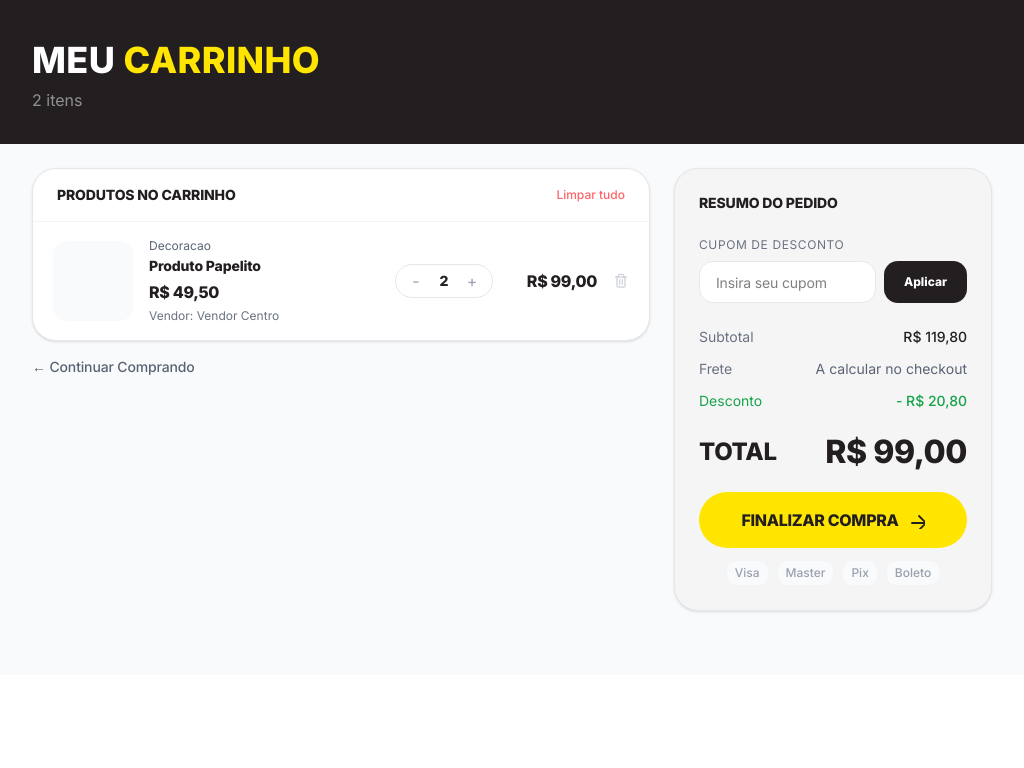
Test: CartPageContent stock validation › keeps the current quantity and warns when fresh stock is lower
The width and height of the screenshot is (1024, 768).
Step 1. Click the button named "Aumentar quantidade" → (472, 281), box x1=456 y1=265 x2=488 y2=297
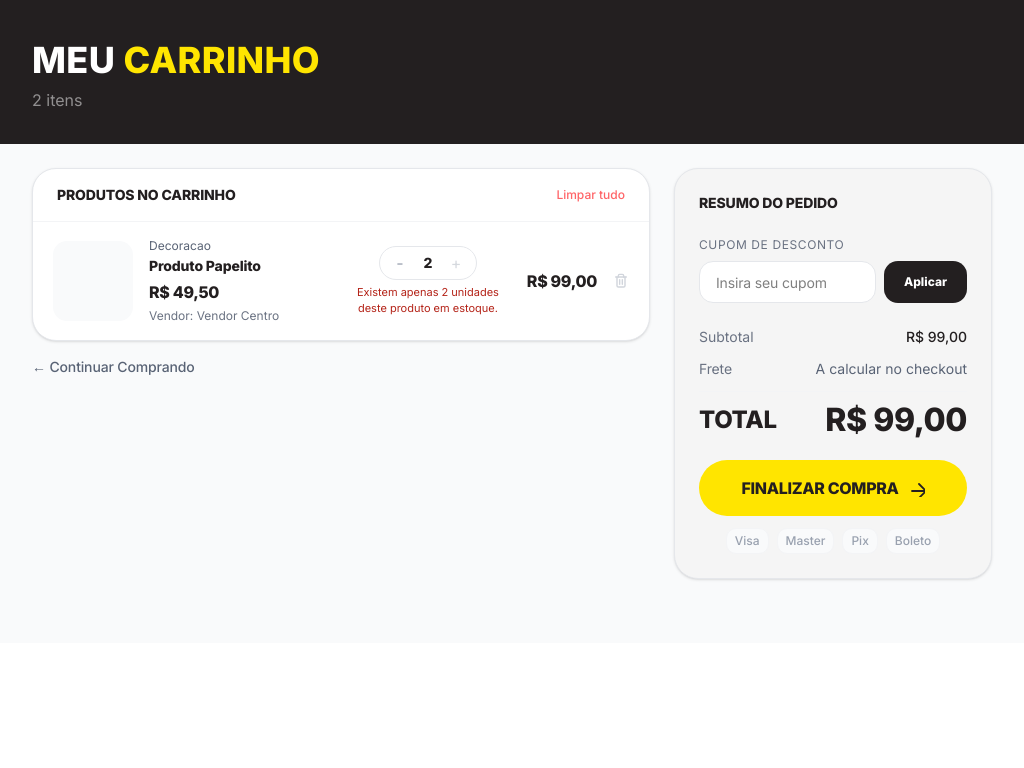
Now the text "Existem apenas 2 unidades deste produto em estoque." is shown, box x1=345 y1=284 x2=511 y2=316
